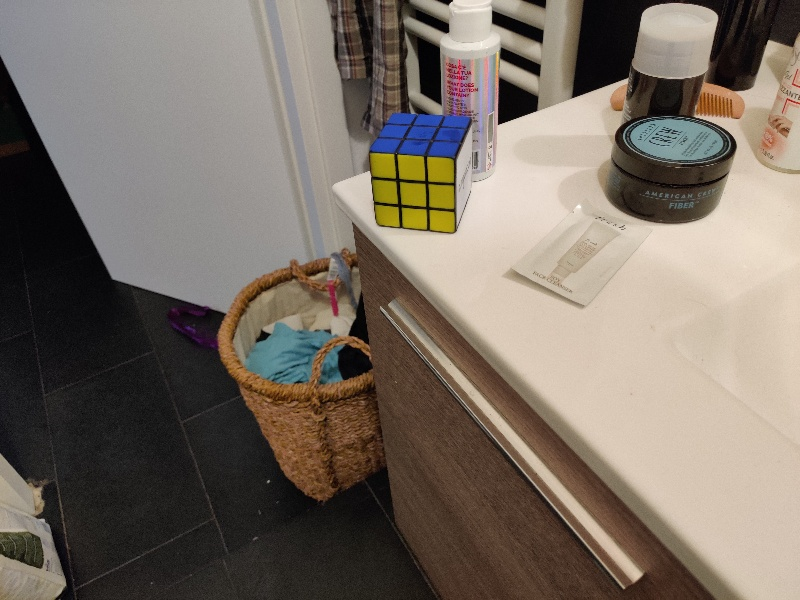rubik: (368, 112, 475, 234)
